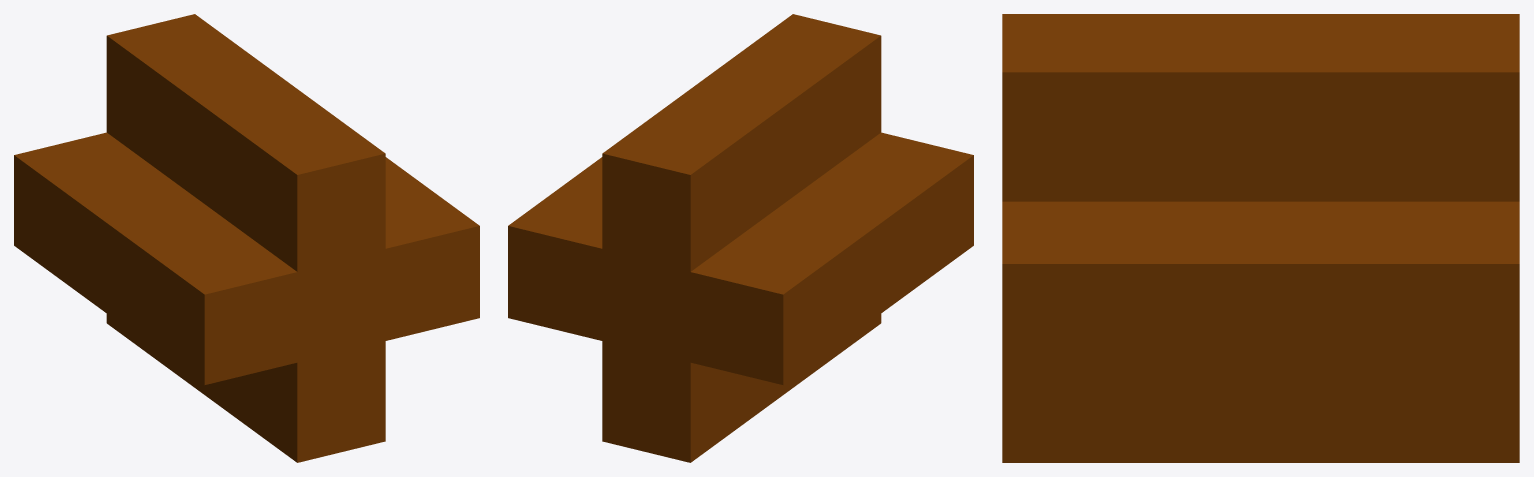
The model's file is peg_cross.obj.
3 views of the same model, side by side, from view 1: azimuth 30°, elevation 25°; view 2: azimuth 150°, elevation 25°; view 3: azimuth 270°, elevation 25° (orthographic). The views are drawn at different scales.
Bounding box in the file's own units: 0.07 × 0.07 × 0.084.
